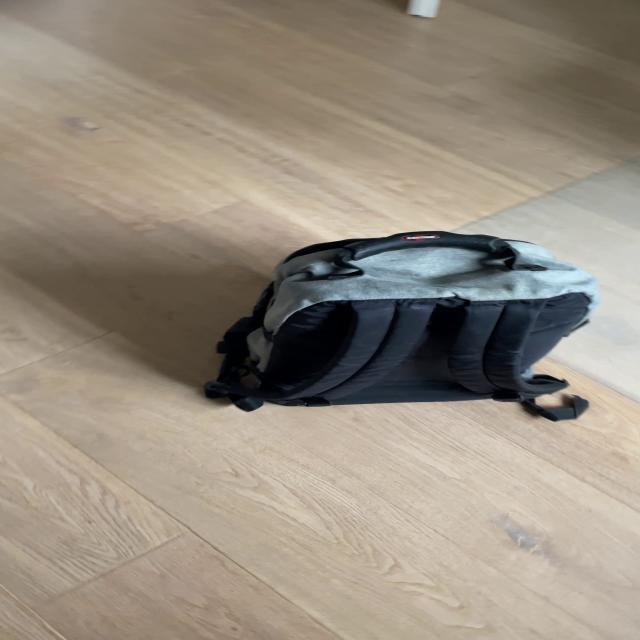backpack: (194, 222, 613, 414)
